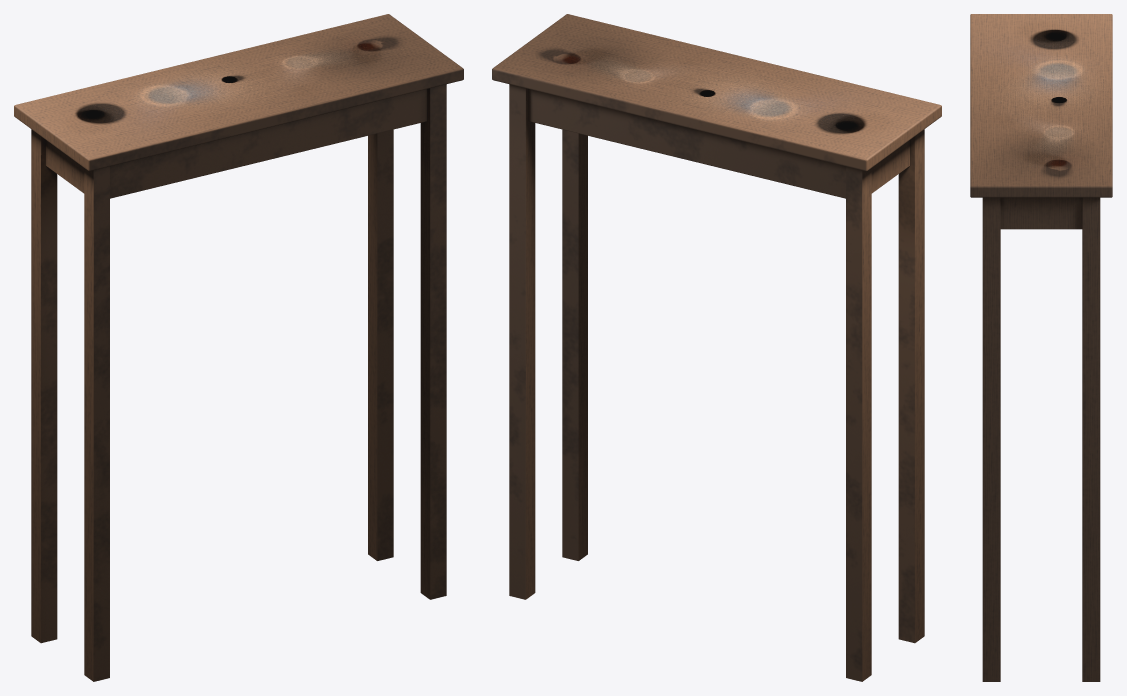
Rendered from 414_hook.glb.
3 renders of one model, left to right at view 1: azimuth 30°, elevation 25°; view 2: azimuth 150°, elevation 25°; view 3: azimuth 270°, elevation 25°, orthographic. The views are drawn at different scales.
Visible parts, largest first — view 1: Table; view 2: Table; view 3: Table.
Part boxes in pixels (left/top/right/bottom): Table: left=14, top=14, right=463, bottom=681; Table: left=492, top=14, right=941, bottom=681; Table: left=970, top=14, right=1112, bottom=681.
Size of what is drawn, in the model's own units: 2.3 by 3.1 by 0.8.
Materials: 1 (1 with a texture image).
